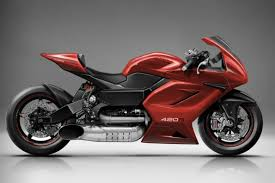motorcycle: (1, 31, 264, 158)
